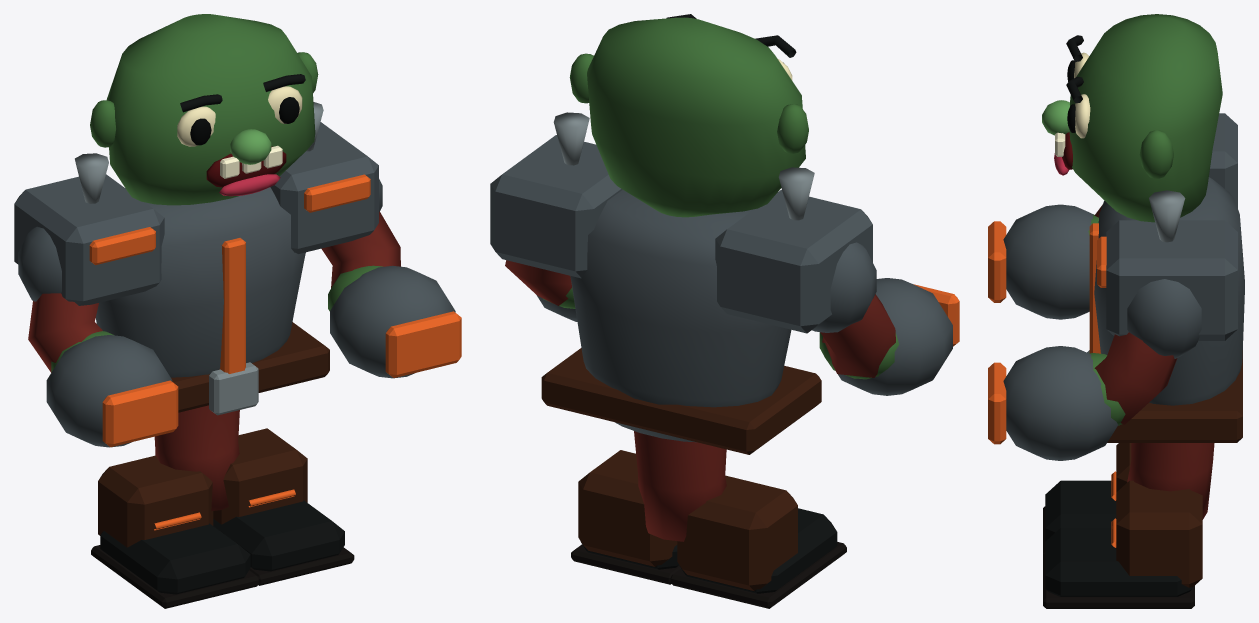
The model's file is elite.glb.
3 renders of one model, left to right at view 1: azimuth 30°, elevation 25°; view 2: azimuth 150°, elevation 25°; view 3: azimuth 270°, elevation 25°, orthographic. The views are drawn at different scales.
Visible parts, largest first — view 1: Arms, Head, Body, LegL, LegR; view 2: Arms, Body, Head, LegL, LegR; view 3: Arms, Head, LegR, Body, LegL.
Boxes of the visible parts, bbox=[...] form: Arms: bbox=[14, 102, 461, 447]; Head: bbox=[90, 14, 318, 205]; Body: bbox=[95, 187, 329, 415]; LegL: bbox=[91, 405, 258, 608]; LegR: bbox=[213, 410, 354, 585]; Arms: bbox=[490, 112, 959, 395]; Body: bbox=[541, 190, 821, 454]; Head: bbox=[569, 14, 808, 217]; LegL: bbox=[634, 431, 846, 608]; LegR: bbox=[571, 438, 705, 584]; Arms: bbox=[988, 113, 1237, 460]; Head: bbox=[1042, 14, 1222, 222]; LegR: bbox=[1043, 443, 1213, 608]; Body: bbox=[1087, 177, 1244, 442]; LegL: bbox=[1043, 443, 1214, 554].
Size of the model in its own units: 0.9135 by 1.16 by 0.5065.
Materials: 1 (1 with a texture image).
